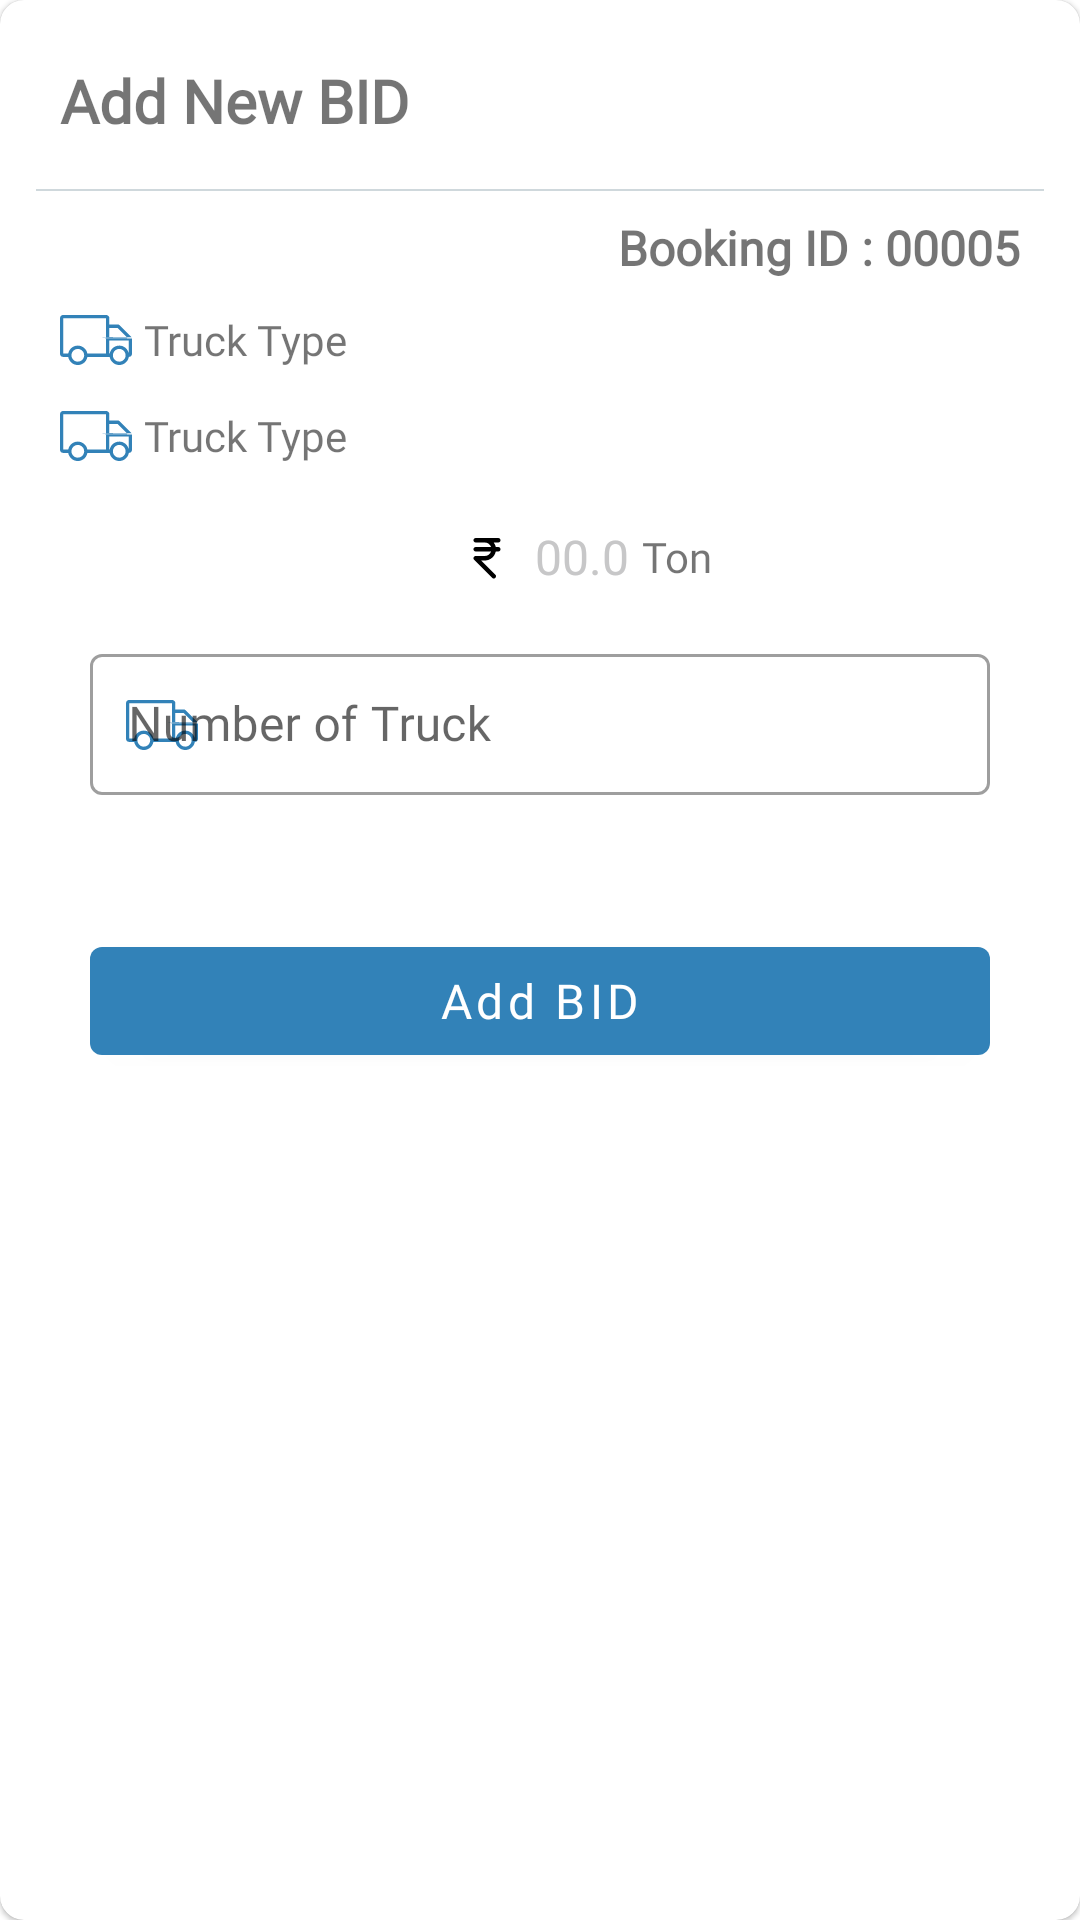

Icons on this 1080 x 1920 Android screen, each with the point to tap as point (x, y):
rupee: point (487, 558)
